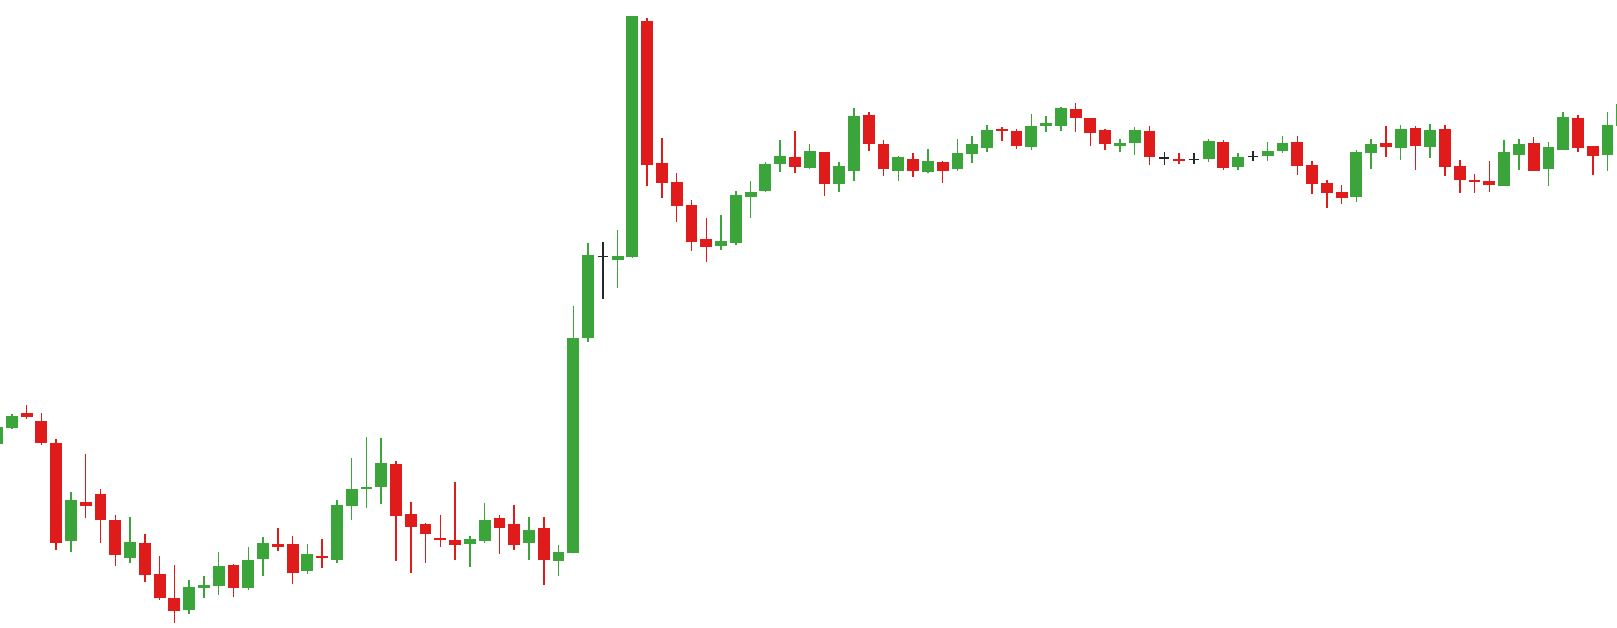buy: (463, 511, 566, 592)
